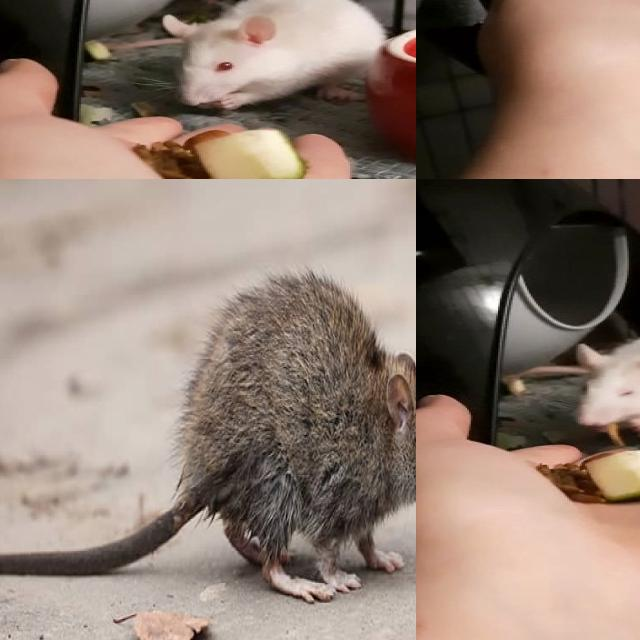rat: (149, 258, 416, 608), (160, 0, 378, 115), (568, 334, 640, 436)
